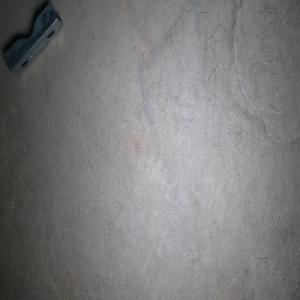ClampPart: (2, 1, 64, 76)
